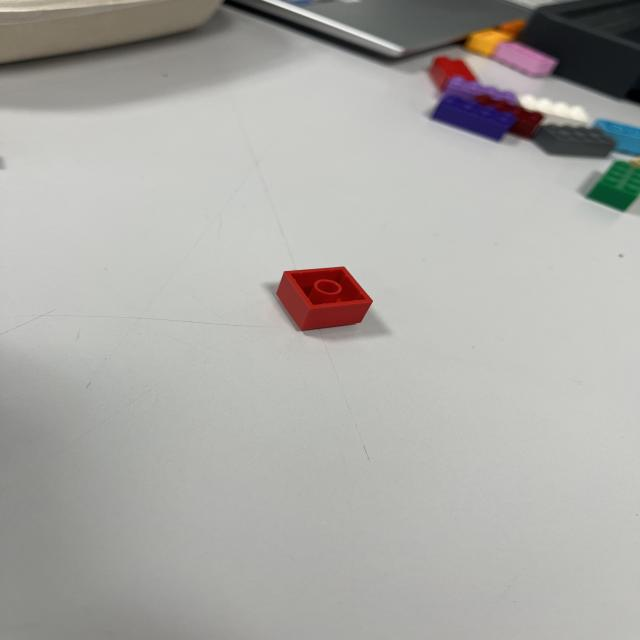C2x2x1: (275, 264, 372, 333)
